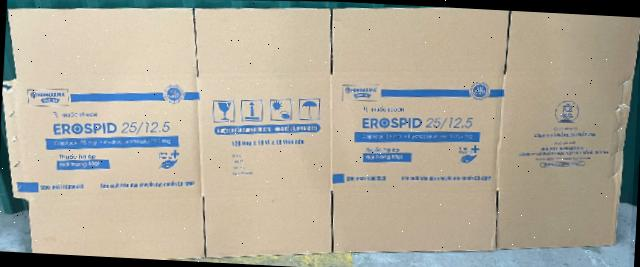box: (2, 6, 640, 258)
